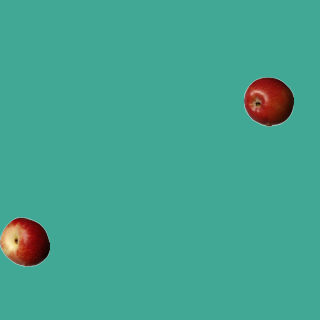Apple Braeburn: (243, 76, 293, 126)
Nectarine: (0, 216, 49, 266)
